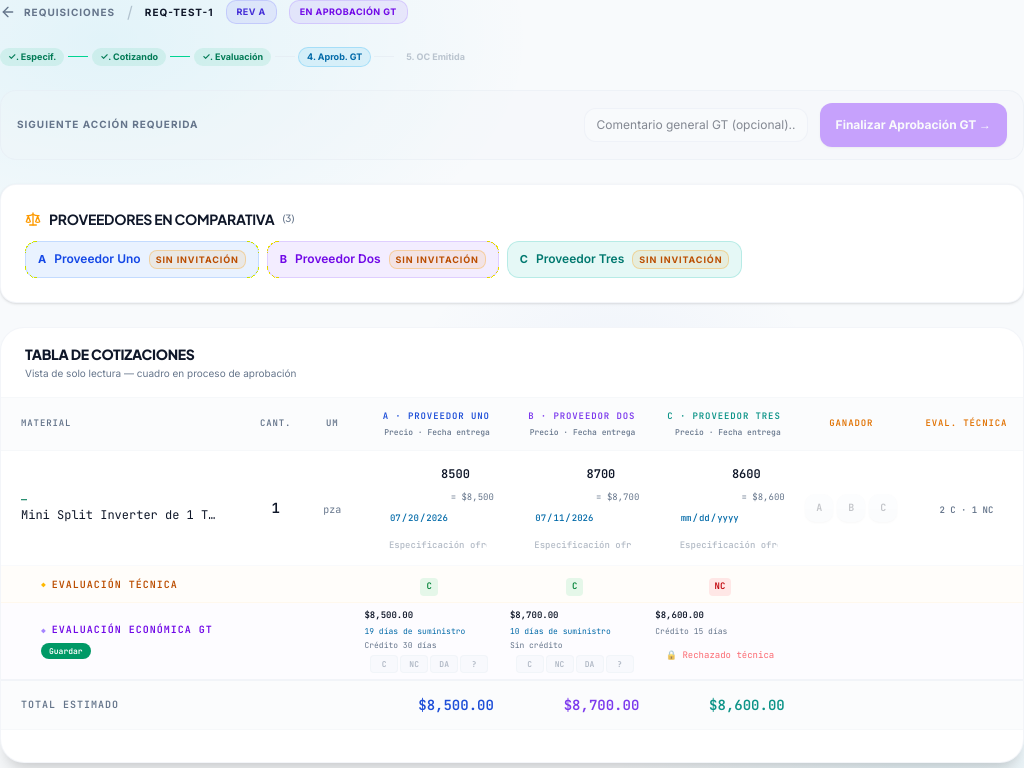
ComparativaDetail — evaluación económica GT inline en Tabla de Cotizaciones › el botón de finalizar GT está deshabilitado mientras falte evaluar un proveedor
This screenshot has width=1024, height=768.
Expected: the text "Mini Split Inverter de 1 Tonelada" is shown, [21, 507, 221, 523]
Solo evalúa proveedor A — falta B (C ya está excluido por rechazo técnico)
Click the button "C" below "Crédito 30 días" at (384, 664), box [370, 654, 398, 672]
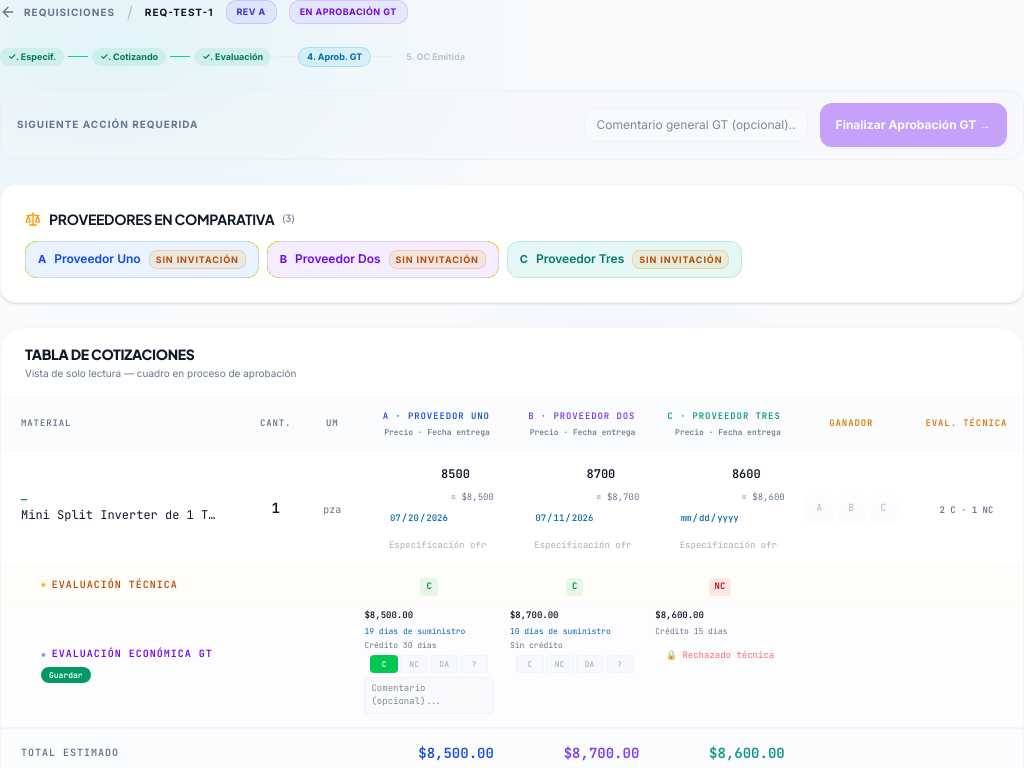
Expected: the button with test id "gt-finalizar" is disabled, [820, 102, 1007, 146]
Click the button "C" below "Sin crédito" at (530, 664), box [516, 654, 544, 672]
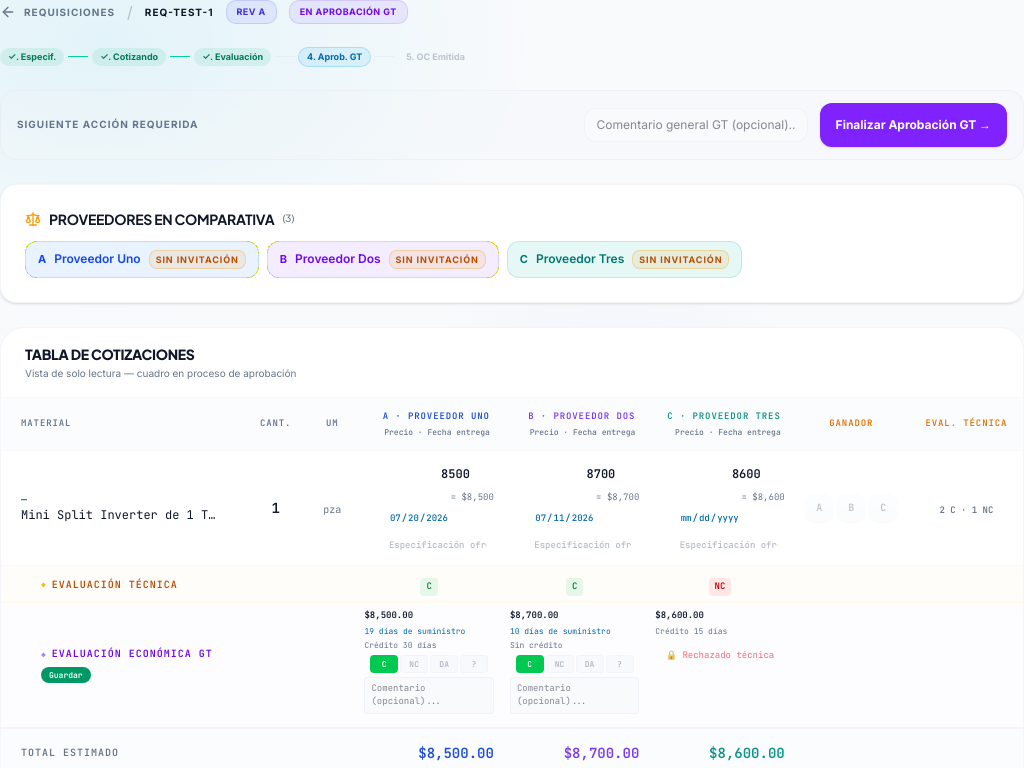
Now the button with test id "gt-finalizar" is enabled, box [820, 102, 1007, 146]
